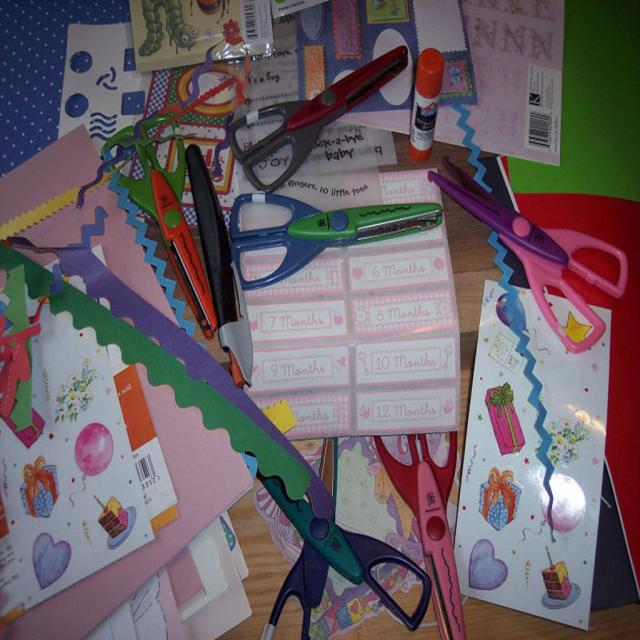scissors: (238, 427, 442, 636), (427, 154, 628, 354), (212, 184, 448, 310), (228, 44, 408, 193), (372, 430, 466, 639)
